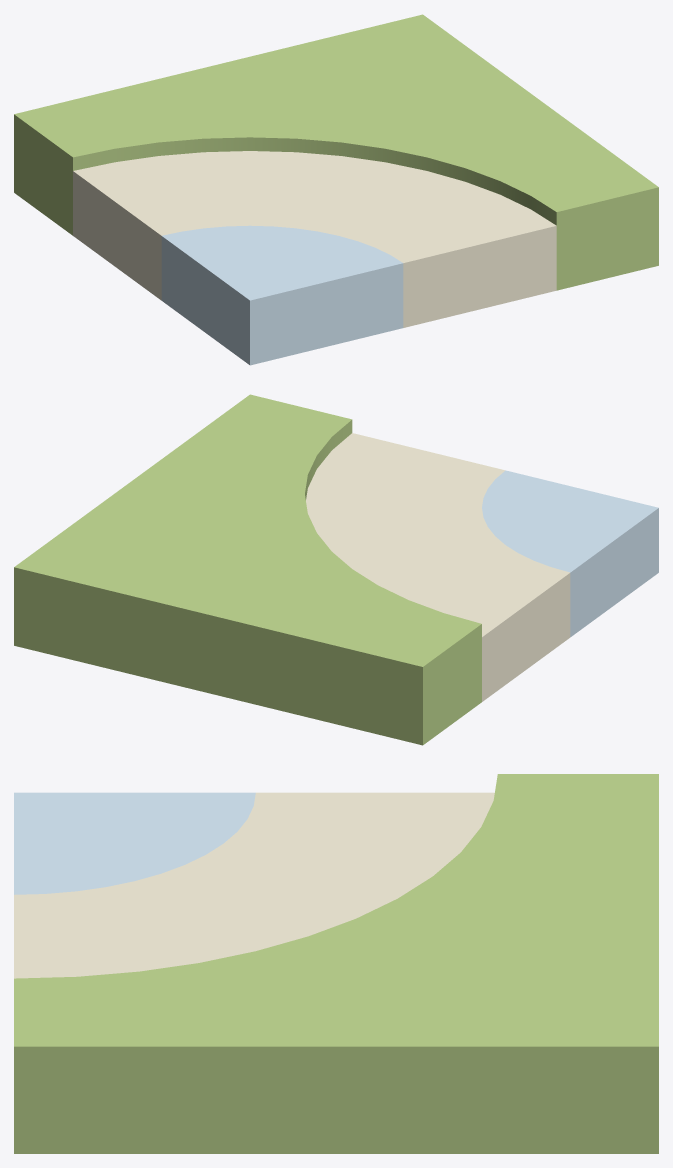
File: tile112.glb
The picture shows the model from 3 angles, top to bottom: view 1: azimuth 30°, elevation 25°; view 2: azimuth 150°, elevation 25°; view 3: azimuth 270°, elevation 25°; orthographic projection. The views are drawn at different scales.
Parts seen in each view (by area): view 1: tile112; view 2: tile112; view 3: tile112.
Boxes of the visible parts, x1,y1,x2,y2 form: tile112: [14, 14, 658, 365]; tile112: [14, 394, 658, 745]; tile112: [14, 774, 658, 1153].
Bounding box in the file's own units: 1 × 0.1833 × 1.
